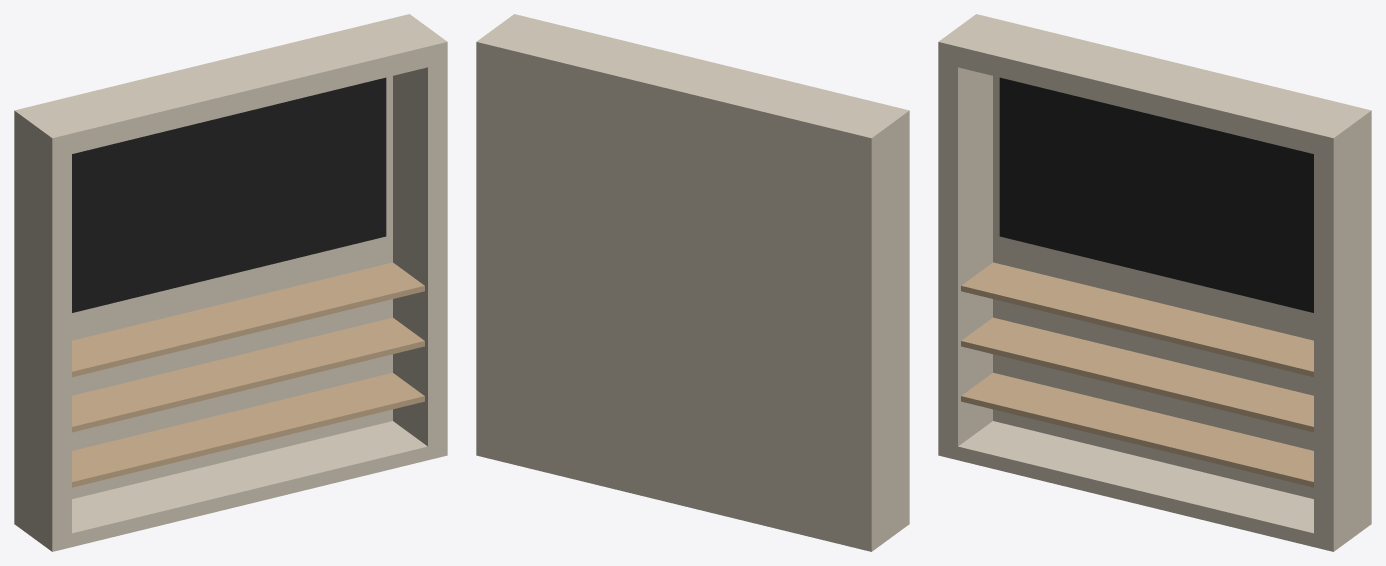
The model's file is apple_avenue_shelf.glb.
3 renders of one model, left to right at view 1: azimuth 30°, elevation 25°; view 2: azimuth 150°, elevation 25°; view 3: azimuth 330°, elevation 25°, orthographic.
Parts seen in each view (by area): view 1: apple_avenue_shelf, screen; view 2: apple_avenue_shelf; view 3: apple_avenue_shelf, screen.
Boxes of the visible parts, x1=… form: apple_avenue_shelf: x1=14, y1=14, x2=447, y2=551; screen: x1=72, y1=77, x2=386, y2=312; apple_avenue_shelf: x1=476, y1=14, x2=909, y2=551; apple_avenue_shelf: x1=938, y1=14, x2=1371, y2=551; screen: x1=999, y1=77, x2=1313, y2=312.
Bounding box in the file's own units: 3 × 3 × 0.5.
